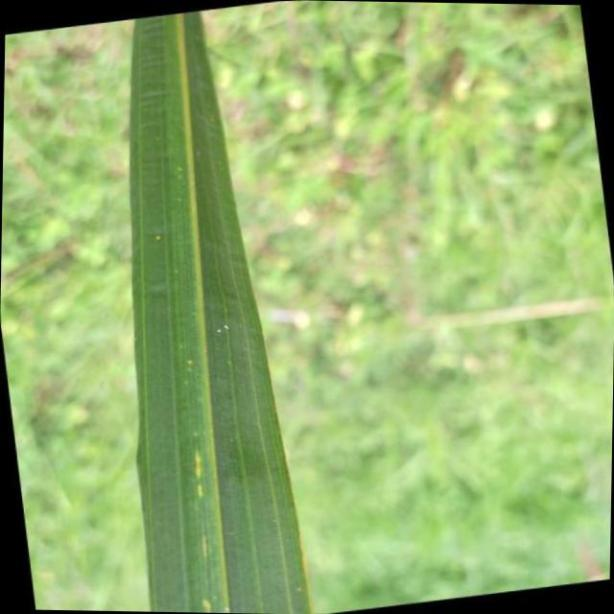Boron: (131, 1, 316, 614)
